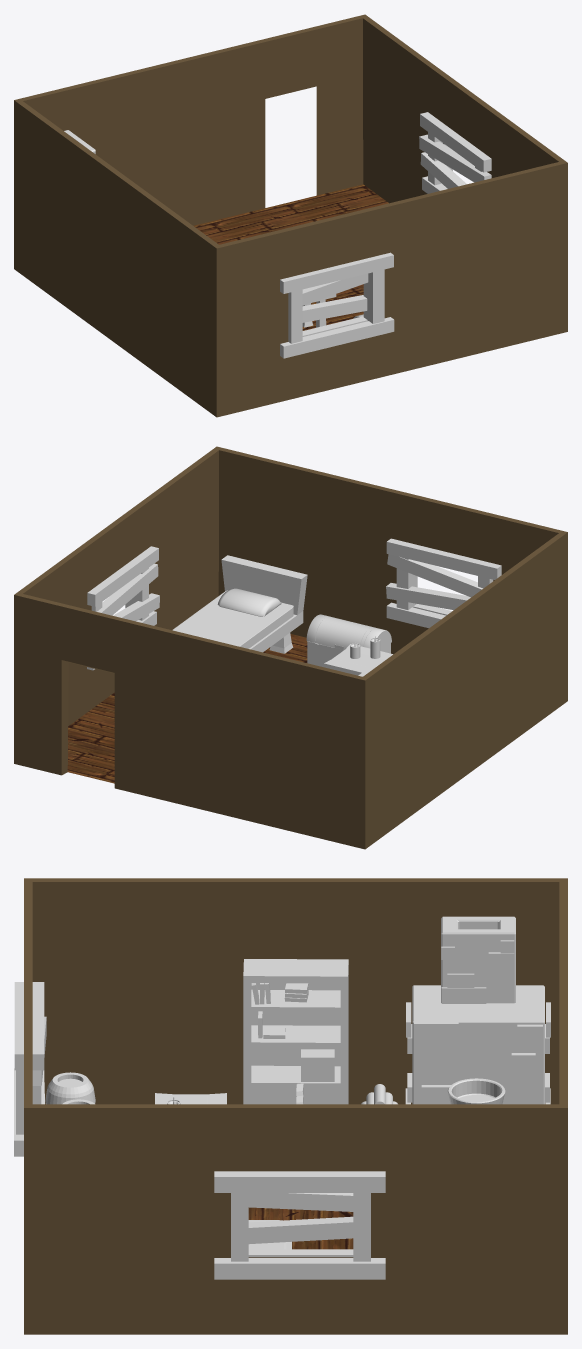
The model's file is house (2).fbx.
3 renders of one model, top to bottom at view 1: azimuth 30°, elevation 25°; view 2: azimuth 150°, elevation 25°; view 3: azimuth 270°, elevation 25°, orthographic. The views are drawn at different scales.
Parts seen in each view (by area): view 1: Cube, pol, Cube.041, Cube.040, Cube.044, Cube.048, Cube.038, Cube.039, Cube.043, Cube.042, Cube.049; view 2: Cube, pol, Cube.019, Cube.021, Cylinder, Cube.036, Cube.039, Cube.044, Cube.038, Cylinder.007, Cube.048, Cube.002 (+3 smaller); view 3: Cube, shkaf, Cube.009, Cube.010, Cube.050, Cube.051, Cube.049, Cube.048, pol, Circle, bochka, Cube.052 (+8 smaller).
Boxes of the visible parts, x1=… form: Cube: x1=14, y1=14, x2=567, y2=417; pol: x1=193, y1=184, x2=388, y2=330; Cube.041: x1=280, y1=317, x2=394, y2=358; Cube.040: x1=280, y1=252, x2=393, y2=293; Cube.044: x1=420, y1=112, x2=491, y2=172; Cube.048: x1=419, y1=134, x2=491, y2=182; Cube.038: x1=302, y1=295, x2=367, y2=322; Cube.039: x1=302, y1=273, x2=368, y2=305; Cube.043: x1=368, y1=269, x2=384, y2=323; Cube.042: x1=288, y1=289, x2=302, y2=343; Cube.049: x1=420, y1=152, x2=466, y2=188; Cube: x1=14, y1=446, x2=567, y2=849; pol: x1=67, y1=634, x2=307, y2=783; Cube.019: x1=221, y1=555, x2=307, y2=652; Cube.021: x1=172, y1=590, x2=293, y2=648; Cylinder: x1=306, y1=614, x2=391, y2=650; Cube.036: x1=386, y1=538, x2=501, y2=579; Cube.039: x1=387, y1=554, x2=482, y2=597; Cube.044: x1=87, y1=546, x2=158, y2=606; Cube.038: x1=386, y1=583, x2=470, y2=610; Cylinder.007: x1=217, y1=588, x2=281, y2=616; Cube.048: x1=97, y1=563, x2=158, y2=615; Cube.002: x1=324, y1=644, x2=392, y2=675; Cube: x1=24, y1=878, x2=567, y2=1334; shkaf: x1=243, y1=959, x2=348, y2=1104; Cube.009: x1=412, y1=985, x2=544, y2=1104; Cube.010: x1=441, y1=916, x2=515, y2=1003; Cube.050: x1=214, y1=1171, x2=385, y2=1192; Cube.051: x1=214, y1=1258, x2=385, y2=1279; Cube.049: x1=248, y1=1216, x2=353, y2=1244; Cube.048: x1=248, y1=1193, x2=353, y2=1211; pol: x1=248, y1=1207, x2=353, y2=1249; Circle: x1=447, y1=1078, x2=505, y2=1104; bochka: x1=45, y1=1072, x2=95, y2=1104; Cube.052: x1=231, y1=1193, x2=248, y2=1261.
Size of the model in its own units: 206 by 91.95 by 204.
